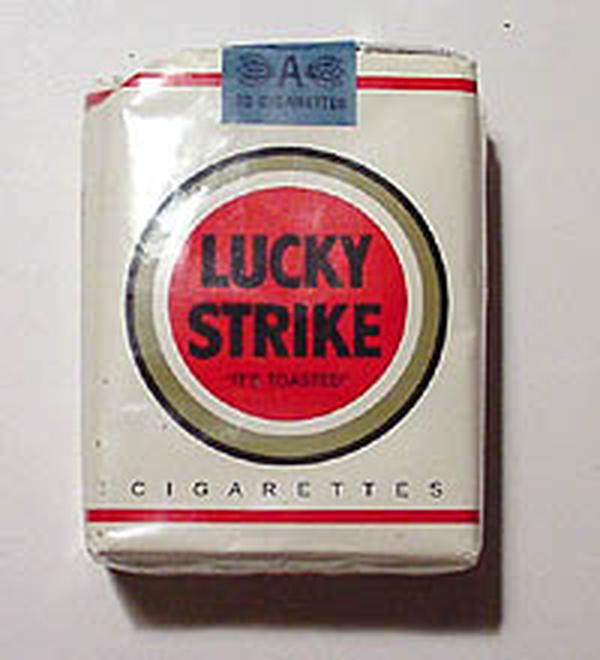lucky_strike_red: (131, 49, 466, 547)
